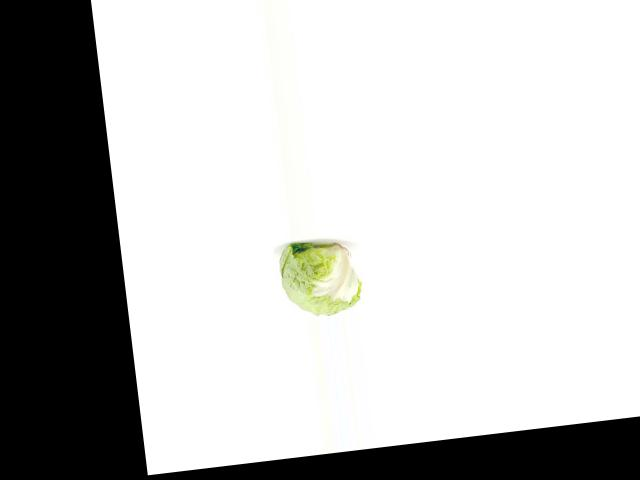lettuce: (274, 231, 366, 320)
